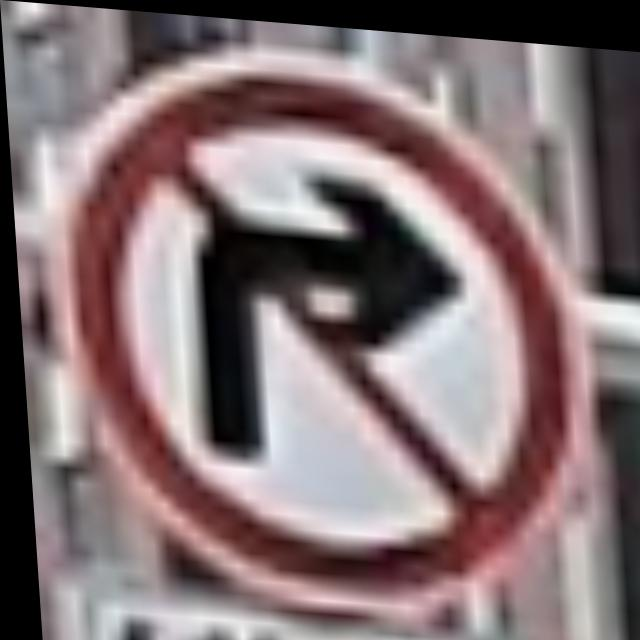not_turn_right: (30, 9, 584, 610)
